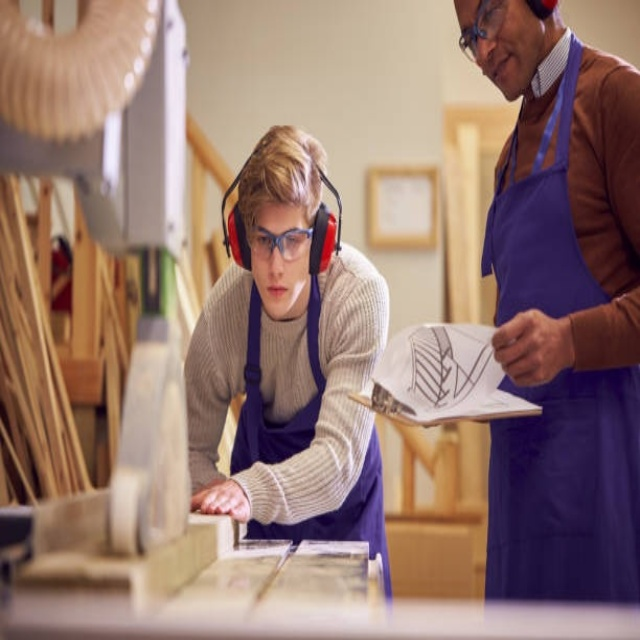Gafas: (460, 0, 515, 64), (247, 224, 316, 261)
Sin_guantes: (491, 306, 566, 387), (191, 477, 250, 520)
Sin_mascara: (480, 50, 522, 93), (261, 276, 294, 315)
